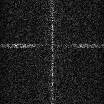wifi: (1, 43, 104, 48)
